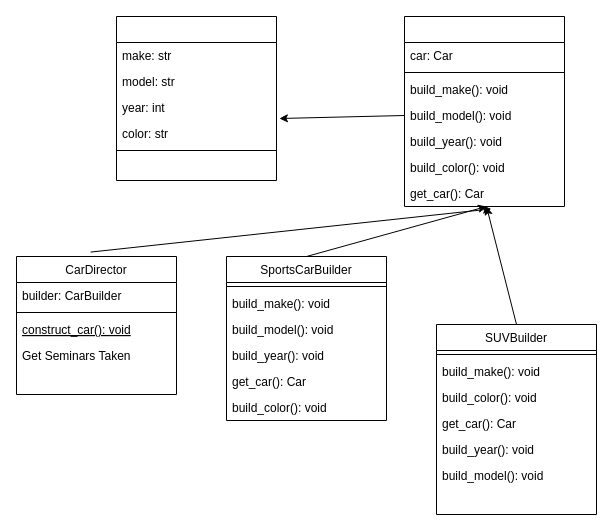
The diagram is 613 pixels wide and 531 high, and some of its shapes have lost their labels. The box of each missing label's shape, as (x1, y1, x2, y2) in pixels:
Car: (116, 16, 276, 180)
CarBuilder: (404, 16, 564, 206)
